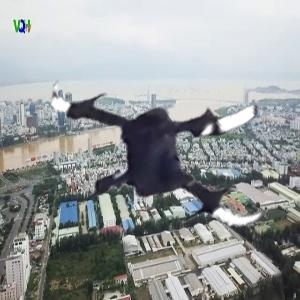drone: (46, 15, 298, 267)
